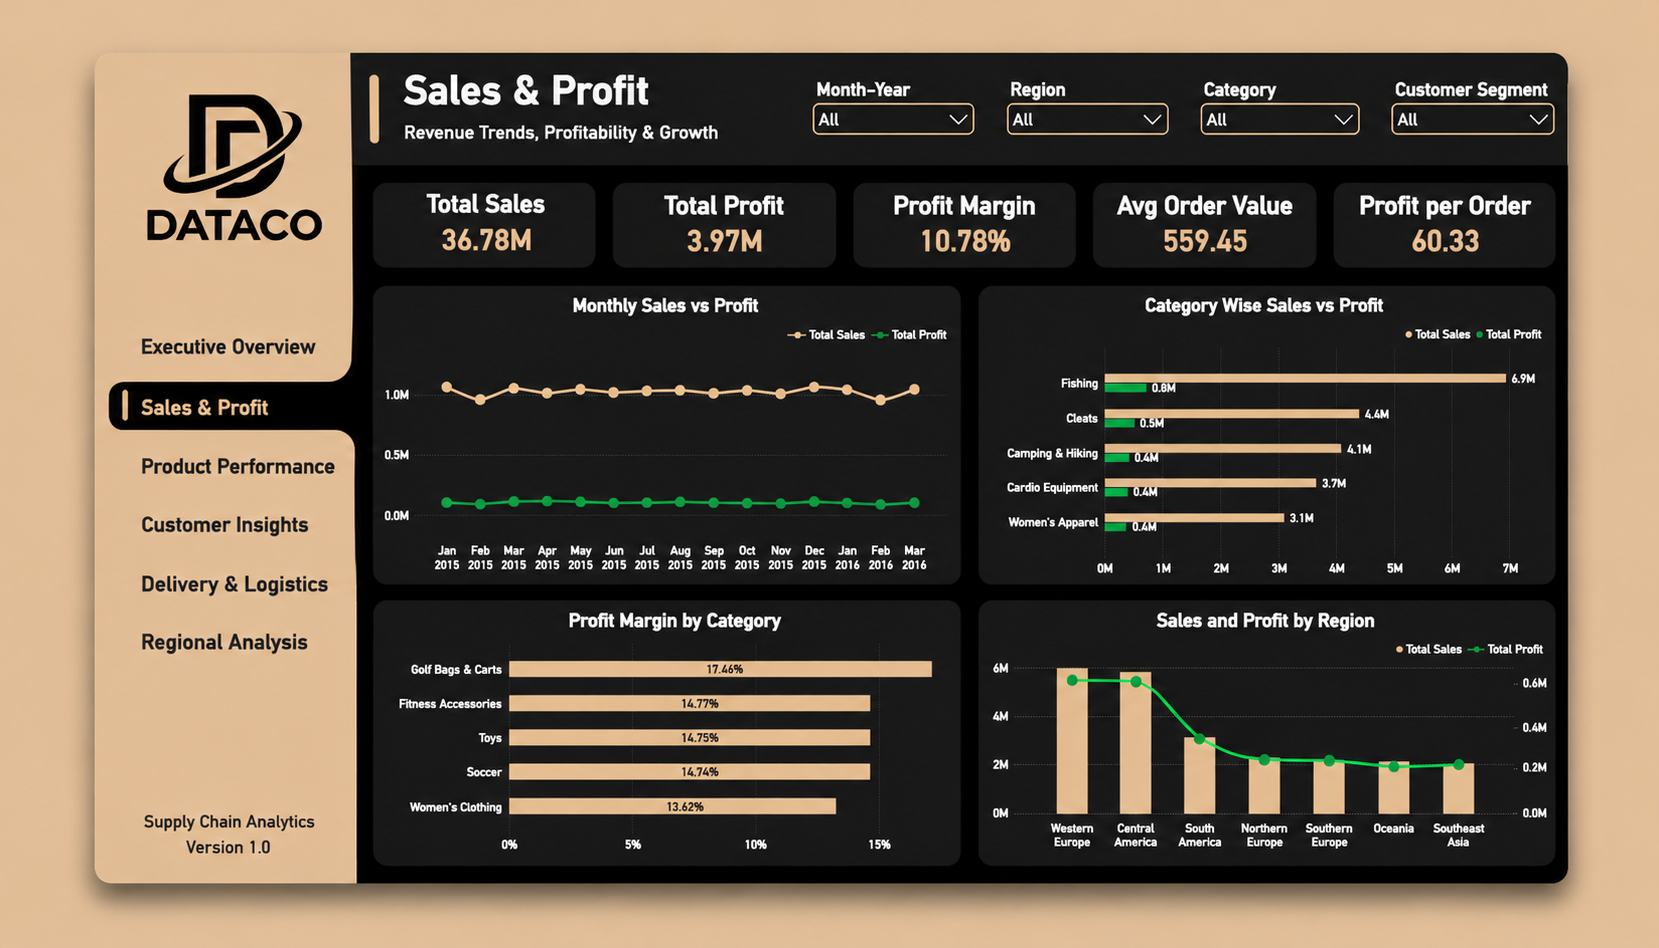

The page's visual inventory and layout, read from the dashboard file:
{"tool":"powerbi","page":{"name":"Sales & Profit","canvas":[2560,1440],"ordinal":1},"visuals":[{"type":"shape","box":[0,0,520,1440],"z":0},{"type":"image","box":[34.2,63.2,450,294.7],"z":1000},{"type":"shape","box":[25.8,565.8,499.2,80],"z":2000},{"type":"textbox","box":[81.6,478.9,371.1,68.4],"z":3000},{"type":"textbox","box":[81.9,583.8,371.1,68.7],"z":4000},{"type":"textbox","box":[81.9,688.8,386.7,68.7],"z":5000},{"type":"textbox","box":[81.9,793.9,372.3,69.9],"z":6000},{"type":"textbox","box":[81.9,900.2,372.3,68.7],"z":7000},{"type":"textbox","box":[81.6,1005.3,371.1,68.4],"z":8000},{"type":"textbox","box":[101.8,1346.4,304.5,43.6],"z":9000},{"type":"textbox","box":[172.7,1387.3,157.3,50],"z":10000},{"type":"actionButton","box":[73.3,470.8,345,60.8],"z":11000},{"type":"actionButton","box":[78,678,376.2,71.4],"z":12000},{"type":"actionButton","box":[81.4,779.7,344.4,71.4],"z":13000},{"type":"actionButton","box":[78,898.3,376.2,71.4],"z":14000},{"type":"actionButton","box":[72.9,1001.7,352.4,71.4],"z":15000},{"type":"shape","box":[50,575.8,11.7,56.7],"z":16000},{"type":"image","box":[440,525.6,130,48.9],"z":17000},{"type":"image","box":[440,635.5,130,48.2],"z":18000},{"type":"shape","box":[520,0,2040,192.5],"z":19000},{"type":"textbox","box":[602.3,32.3,566.2,213.1],"z":20000},{"type":"textbox","box":[604.9,117.1,641.5,53.7],"z":21000},{"type":"shape","box":[553.3,38.9,16.7,115.6],"z":22000},{"type":"shape","box":[2251,87,282,52],"z":23000},{"type":"shape","box":[1921.4,86.4,277.9,52.1],"z":24000},{"type":"shape","box":[1591.4,86.4,277.9,52.1],"z":25000},{"type":"shape","box":[1260.8,87.5,278,52.5],"z":26000},{"type":"slicer","fields":{"Values":["supply_chain_ops dataco_cleaned.Customer Segment"]},"box":[2249,50,284,324],"z":27000},{"type":"slicer","fields":{"Values":["supply_chain_ops dataco_cleaned.Category Name"]},"box":[1920,48.8,280,322],"z":28000},{"type":"slicer","fields":{"Values":["supply_chain_ops dataco_cleaned.Order Region"]},"box":[1590,48.8,280,322],"z":29000},{"type":"slicer","fields":{"Values":["supply_chain_ops dataco_cleaned.Month-Year"]},"box":[1260,50,280,320],"z":30000},{"type":"cardVisual","fields":{"Data":["MeasureTable.Total Sales"]},"box":[550,230,370,130],"z":31000},{"type":"cardVisual","fields":{"Data":["MeasureTable.Total Profit"]},"box":[953.3,228.8,370,130],"z":32000},{"type":"cardVisual","fields":{"Data":["MeasureTable.Profit Margin"]},"box":[1356.7,230,370,130],"z":33000},{"type":"cardVisual","fields":{"Data":["MeasureTable.Average Order Value"]},"box":[1760,230,370,130],"z":34000},{"type":"cardVisual","fields":{"Data":["MeasureTable.Profit per Order"]},"box":[2163.3,230,370,130],"z":35000},{"type":"lineChart","title":"Monthly Sales vs Profit","fields":{"Category":["supply_chain_ops dataco_cleaned.Month-Year"],"Y":["MeasureTable.Total Sales","MeasureTable.Total Profit"]},"box":[550,400,987.5,522.5],"z":36000},{"type":"shape","box":[615,891.2,901.2,22.5],"z":37000},{"type":"clusteredBarChart","title":"Category Wise Sales vs Profit","fields":{"Category":["supply_chain_ops dataco_cleaned.Category Name"],"Y":["MeasureTable.Total Sales","MeasureTable.Total Profit"]},"box":[1570,400,962.5,522.5],"z":38000},{"type":"shape","box":[2501.2,501.2,21.2,390],"z":39000},{"type":"clusteredBarChart","title":"Profit Margin by Category","fields":{"Category":["supply_chain_ops dataco_cleaned.Category Name"],"Y":["MeasureTable.Profit Margin"]},"box":[550,960,987.5,452.5],"z":40000},{"type":"shape","box":[1505,990,20,390],"z":41000},{"type":"lineClusteredColumnComboChart","title":"Sales and Profit by Region","fields":{"Category":["supply_chain_ops dataco_cleaned.Order Region"],"Y":["MeasureTable.Total Sales"],"Y2":["MeasureTable.Total Profit"]},"box":[1570,960,963,453],"z":42000},{"type":"shape","box":[1620,1377.5,902.5,22.5],"z":43000}]}

Visuals, with their boxes in screenshot pixels (x1, y1, x2, y2), scaled from the page's 2560x1440 canvas onto the 1659x948 screenshot:
shape: <box>0,0,337,947</box>
image: <box>22,42,314,236</box>
shape: <box>17,372,340,425</box>
textbox: <box>53,315,293,360</box>
textbox: <box>53,384,294,430</box>
textbox: <box>53,453,304,499</box>
textbox: <box>53,523,294,569</box>
textbox: <box>53,593,294,638</box>
textbox: <box>53,662,293,707</box>
textbox: <box>66,886,263,915</box>
textbox: <box>112,913,214,946</box>
actionButton: <box>48,310,271,350</box>
actionButton: <box>51,446,294,493</box>
actionButton: <box>53,513,276,560</box>
actionButton: <box>51,591,294,638</box>
actionButton: <box>47,659,276,706</box>
shape: <box>32,379,40,416</box>
image: <box>285,346,369,378</box>
image: <box>285,418,369,450</box>
shape: <box>337,0,1658,127</box>
textbox: <box>390,21,757,162</box>
textbox: <box>392,77,808,112</box>
shape: <box>359,26,369,102</box>
shape: <box>1459,57,1642,92</box>
shape: <box>1245,57,1425,91</box>
shape: <box>1031,57,1211,91</box>
shape: <box>817,58,997,92</box>
slicer - supply_chain_ops dataco_cleaned.Customer Segment: <box>1457,33,1642,246</box>
slicer - supply_chain_ops dataco_cleaned.Category Name: <box>1244,32,1426,244</box>
slicer - supply_chain_ops dataco_cleaned.Order Region: <box>1030,32,1212,244</box>
slicer - supply_chain_ops dataco_cleaned.Month-Year: <box>817,33,998,244</box>
cardVisual - MeasureTable.Total Sales: <box>356,151,596,237</box>
cardVisual - MeasureTable.Total Profit: <box>618,151,858,236</box>
cardVisual - MeasureTable.Profit Margin: <box>879,151,1119,237</box>
cardVisual - MeasureTable.Average Order Value: <box>1141,151,1380,237</box>
cardVisual - MeasureTable.Profit per Order: <box>1402,151,1642,237</box>
"Monthly Sales vs Profit" lineChart: <box>356,263,996,607</box>
shape: <box>399,587,983,602</box>
"Category Wise Sales vs Profit" clusteredBarChart: <box>1017,263,1641,607</box>
shape: <box>1621,330,1635,587</box>
"Profit Margin by Category" clusteredBarChart: <box>356,632,996,930</box>
shape: <box>975,652,988,908</box>
"Sales and Profit by Region" lineClusteredColumnComboChart: <box>1017,632,1642,930</box>
shape: <box>1050,907,1635,922</box>
